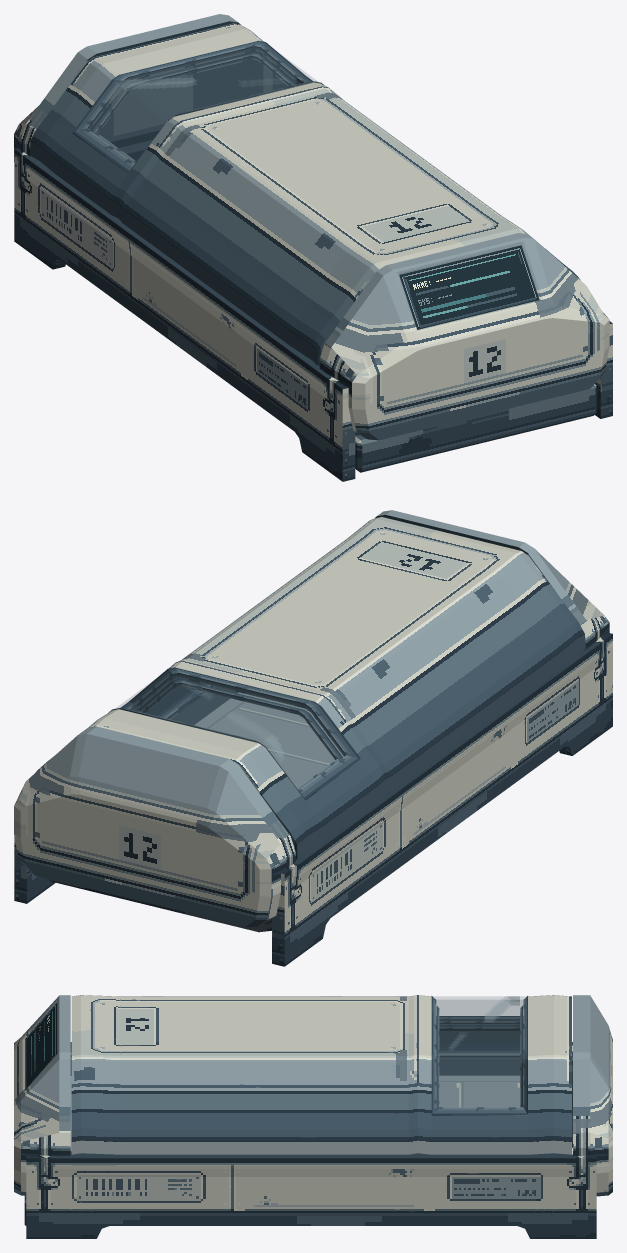
Rendered from pod_closed_v4.glb.
3 views of the same model, one above another, from view 1: azimuth 30°, elevation 25°; view 2: azimuth 150°, elevation 25°; view 3: azimuth 270°, elevation 25° (orthographic). The views are drawn at different scales.
Parts seen in each view (by area): view 1: pod_v4_lid, pod_v4_shell_end, pod_v4_shell_side, pod_v4_glass, pod_v4_display, pod_v4_interior, pod_v4_section.003, pod_v4_section.004, pod_v4_section.005; view 2: pod_v4_lid, pod_v4_shell_end, pod_v4_shell_side, pod_v4_glass, pod_v4_mattress, pod_v4_section.003, pod_v4_section.004, pod_v4_interior.001; view 3: pod_v4_lid, pod_v4_shell_side, pod_v4_glass, pod_v4_shell_end, pod_v4_mattress, pod_v4_section.003, pod_v4_interior.001, pod_v4_display, pod_v4_interior, pod_v4_section.004, pod_v4_section.
Part boxes in pixels (bbox=[...]): pod_v4_lid: bbox=[29, 23, 580, 365]; pod_v4_shell_end: bbox=[19, 14, 612, 481]; pod_v4_shell_side: bbox=[14, 52, 612, 481]; pod_v4_glass: bbox=[82, 47, 317, 166]; pod_v4_display: bbox=[399, 245, 539, 329]; pod_v4_interior: bbox=[89, 51, 298, 138]; pod_v4_section.003: bbox=[72, 40, 323, 173]; pod_v4_section.004: bbox=[91, 52, 296, 163]; pod_v4_section.005: bbox=[30, 21, 240, 161]; pod_v4_lid: bbox=[36, 517, 585, 859]; pod_v4_shell_end: bbox=[14, 510, 604, 966]; pod_v4_shell_side: bbox=[14, 548, 612, 966]; pod_v4_glass: bbox=[117, 674, 351, 793]; pod_v4_mattress: bbox=[194, 692, 343, 787]; pod_v4_section.003: bbox=[108, 667, 360, 800]; pod_v4_section.004: bbox=[137, 679, 342, 789]; pod_v4_interior.001: bbox=[157, 683, 238, 725]; pod_v4_lid: bbox=[71, 995, 571, 1154]; pod_v4_shell_side: bbox=[21, 1042, 608, 1238]; pod_v4_glass: bbox=[434, 996, 525, 1109]; pod_v4_shell_end: bbox=[14, 995, 612, 1201]; pod_v4_mattress: bbox=[70, 1075, 523, 1151]; pod_v4_section.003: bbox=[431, 996, 527, 1115]; pod_v4_interior.001: bbox=[70, 1048, 572, 1147]; pod_v4_display: bbox=[25, 1003, 56, 1089]; pod_v4_interior: bbox=[436, 1022, 523, 1042]; pod_v4_section.004: bbox=[436, 1006, 522, 1107]; pod_v4_section: bbox=[70, 1049, 572, 1064].
Bounding box in the file's own units: 1.05 × 0.665 × 2.29.
8 materials, 8 textured.
